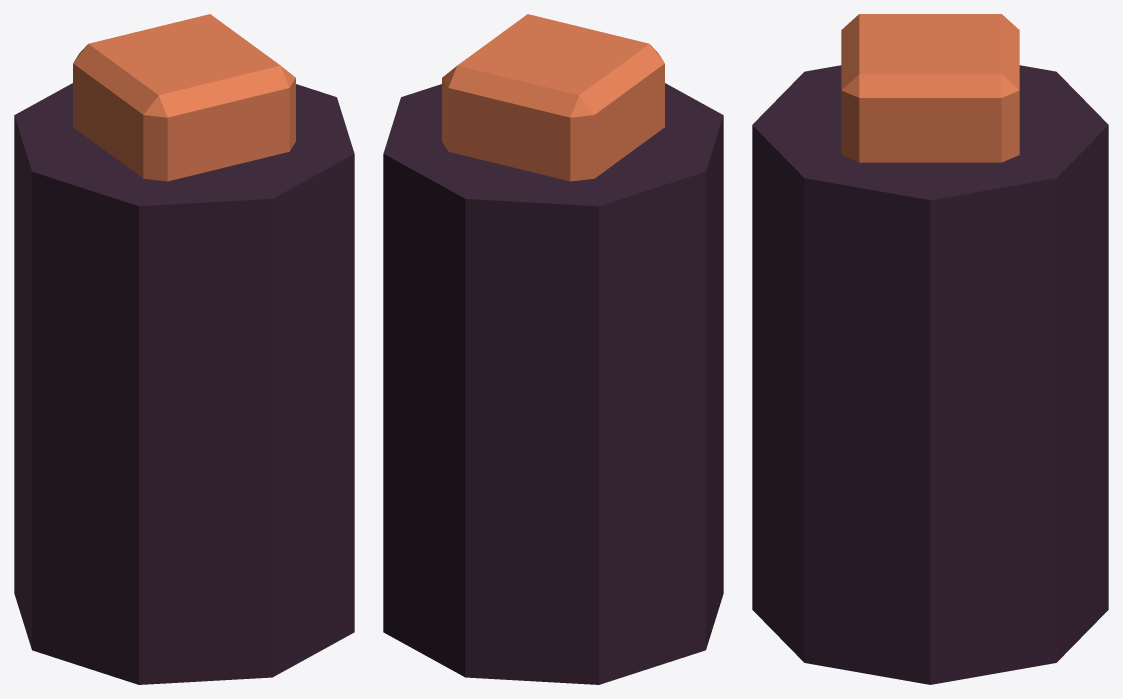
Rendered from LowPolyButton1.glb.
The picture shows the model from 3 angles, left to right: view 1: azimuth 30°, elevation 25°; view 2: azimuth 150°, elevation 25°; view 3: azimuth 270°, elevation 25°; orthographic projection.
Visible parts, largest first — view 1: Button1; view 2: Button1; view 3: Button1.
Boxes of the visible parts, x1,y1,x2,y2 form: Button1: (14,14,354,684); Button1: (383,14,723,684); Button1: (752,14,1108,684).
Bounding box in the file's own units: 1 × 1.75 × 1.
